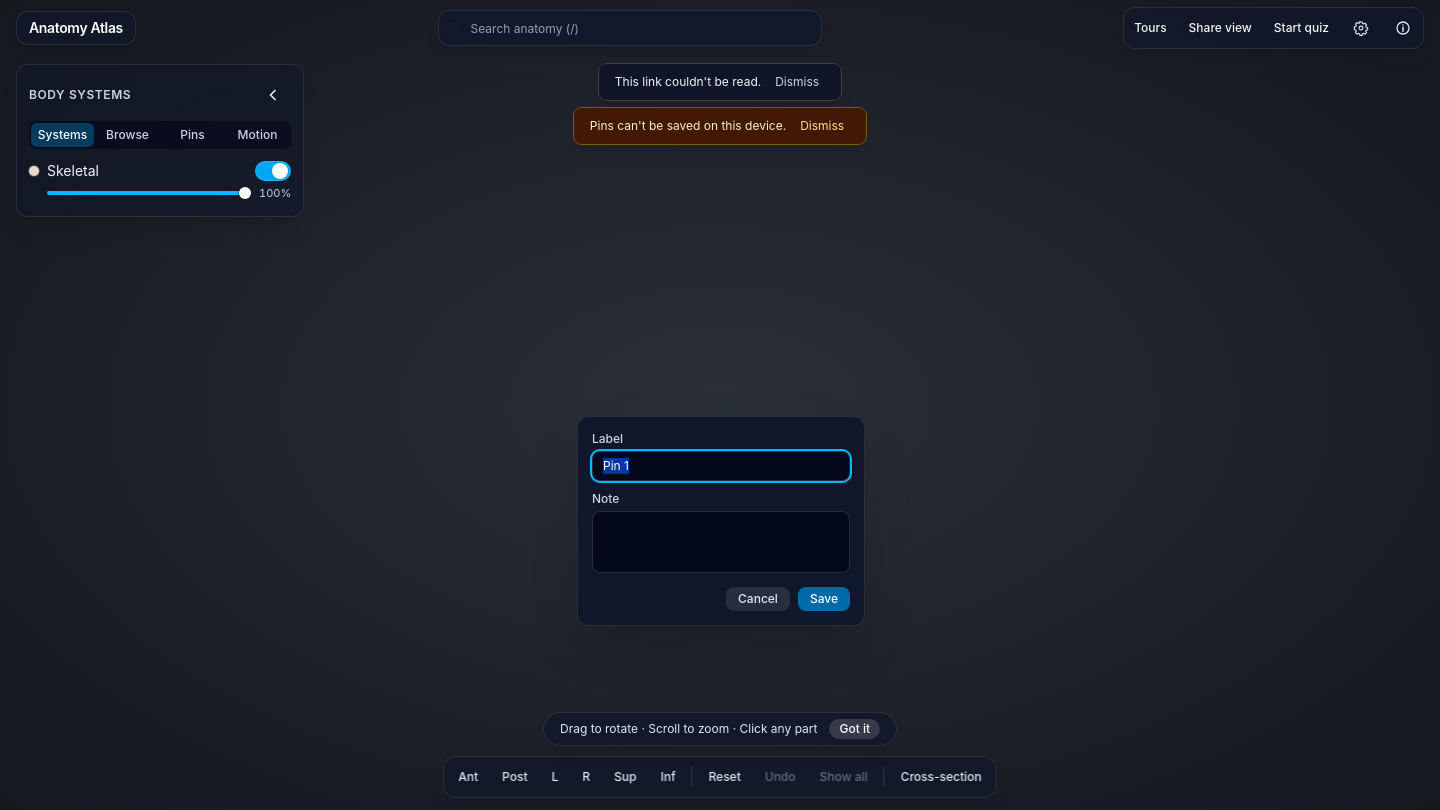
toggles Share view popover cleanly, restores focus on Escape, stacks notices, and hides PinEditor in quiz
The width and height of the screenshot is (1440, 810).
Later steps or results of the test are not shown.
Expected: the dialog named "Add pin" is shown, [577,416,865,626]
Click the button "Share view" at x=1220, y=28, box [1181,16,1260,40]
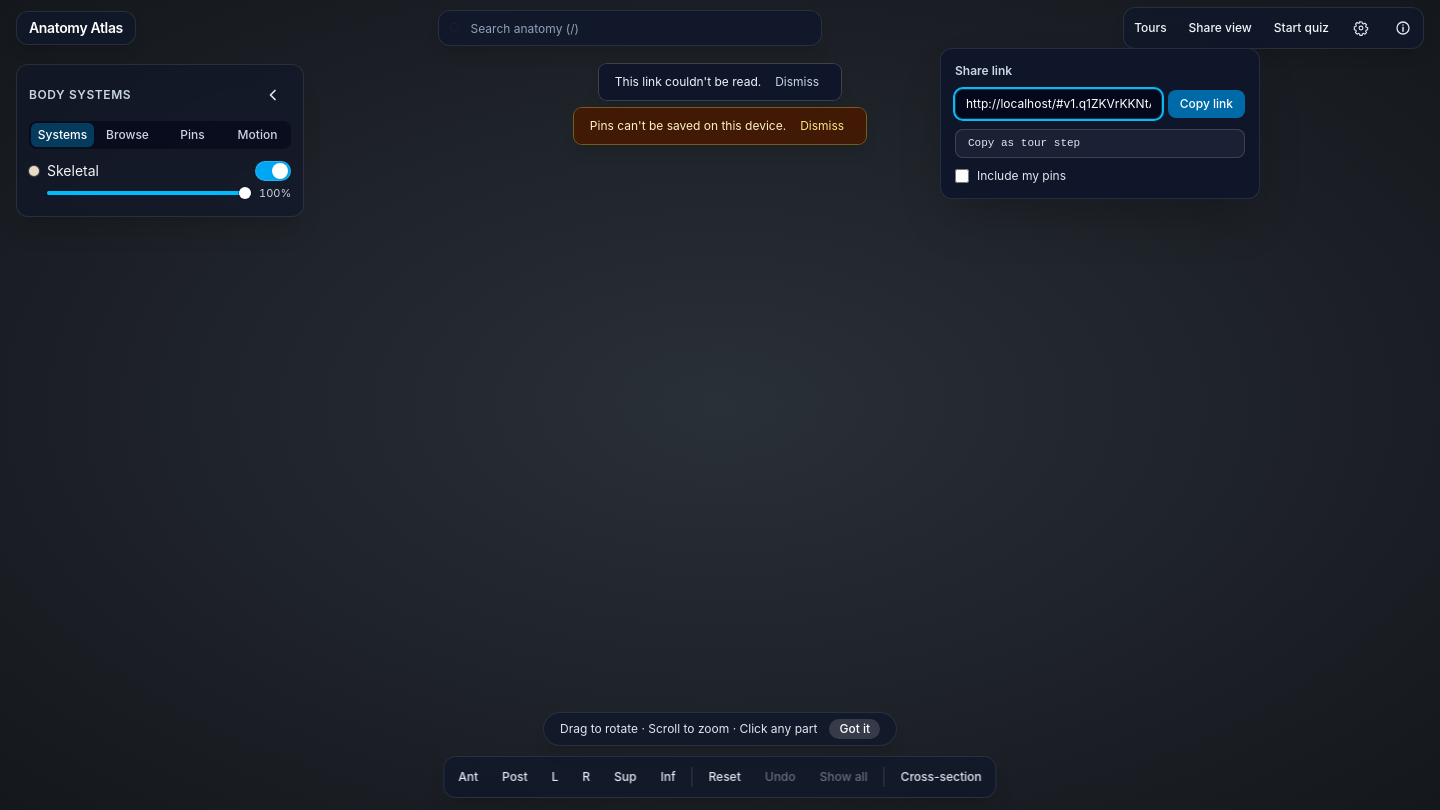
Expected: the dialog named "Share view" is shown, [940,48,1260,199]
Click the button "Share view" at x=1220, y=28, box [1181,16,1260,40]
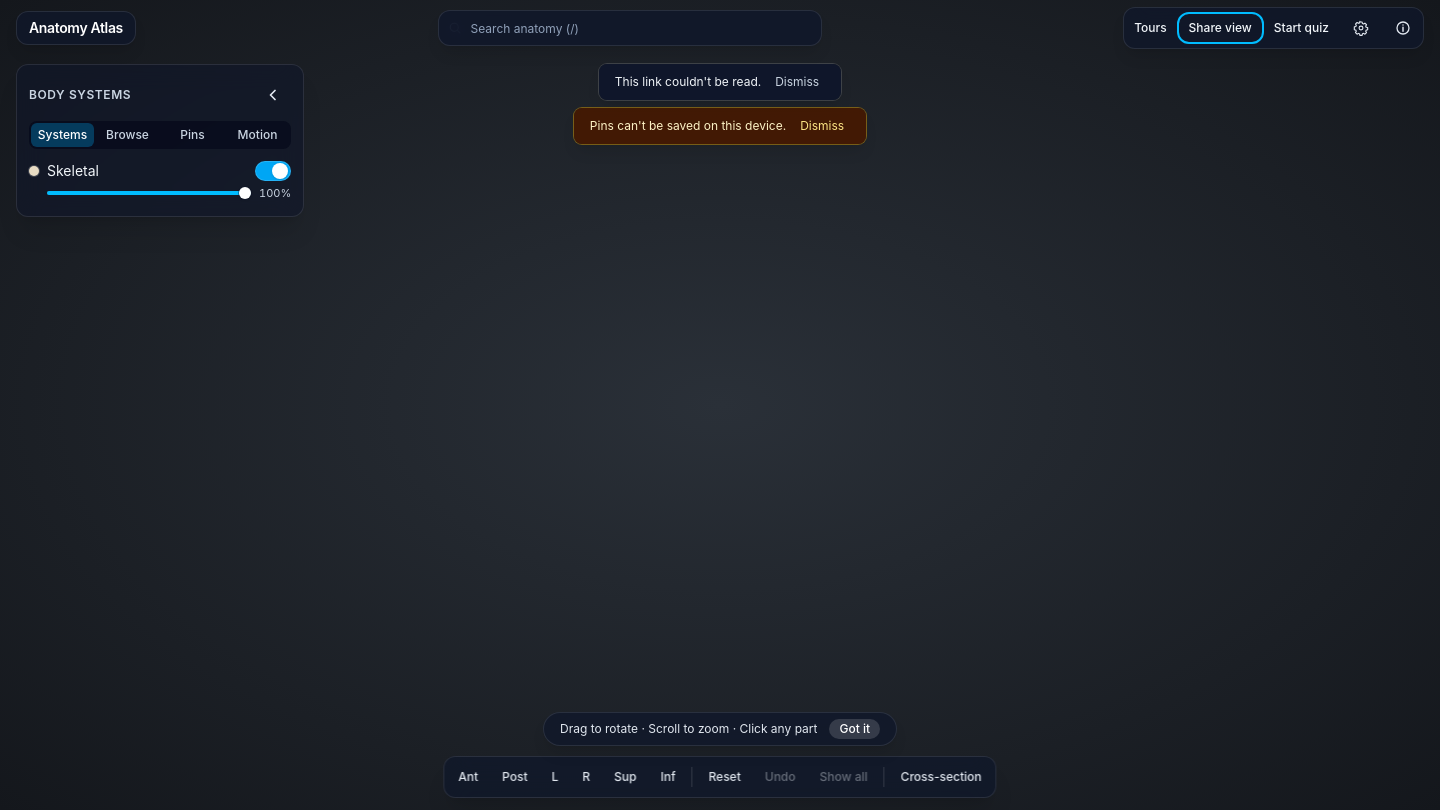
Expected: the button "Share view" is collapsed
Click the button "Share view" at x=1220, y=28, box [1181,16,1260,40]
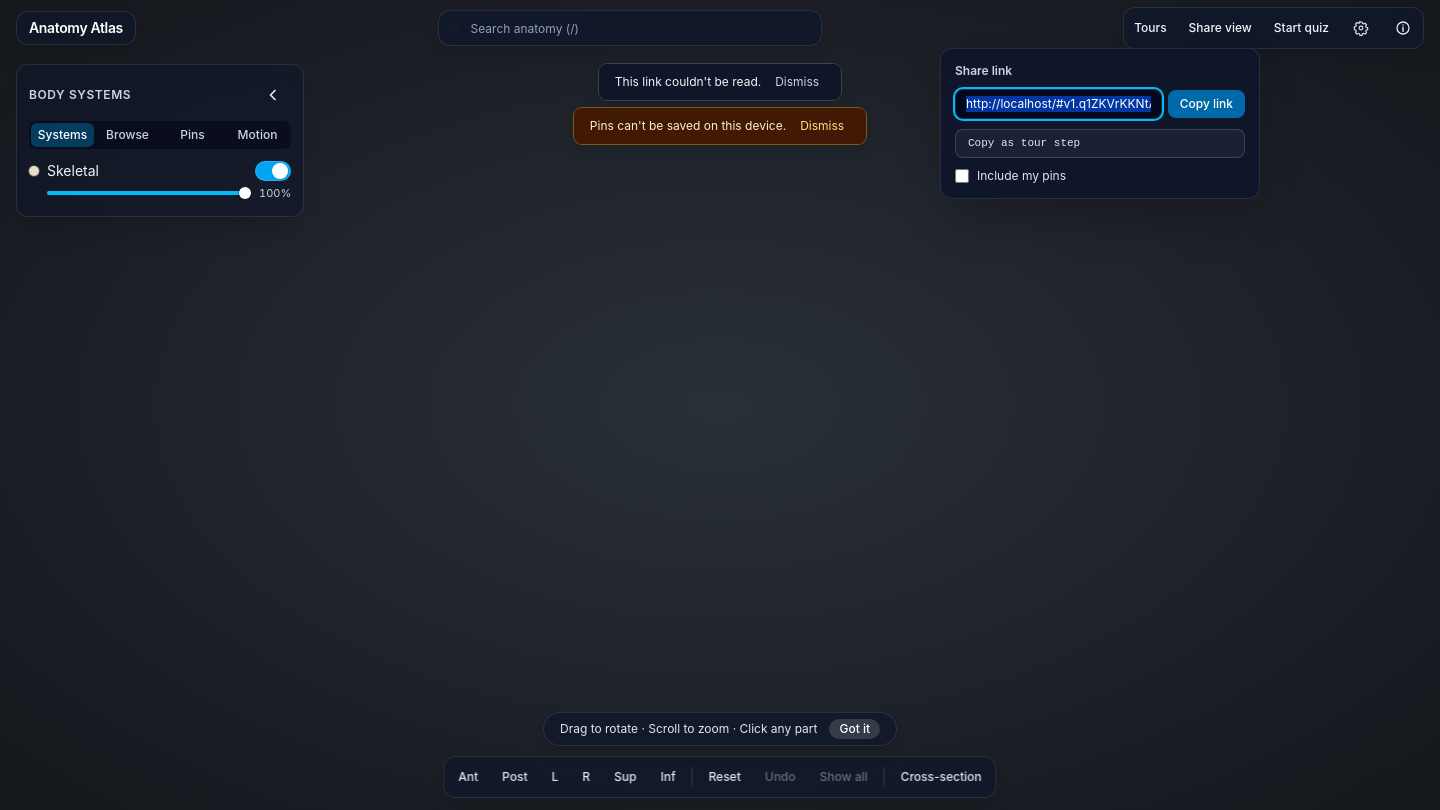
Expected: the dialog named "Share view" is shown, [940,48,1260,199]
